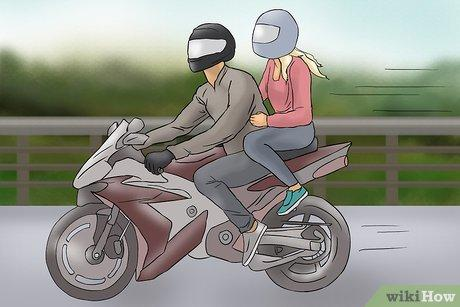helmet: (248, 7, 317, 68), (182, 15, 237, 75)
